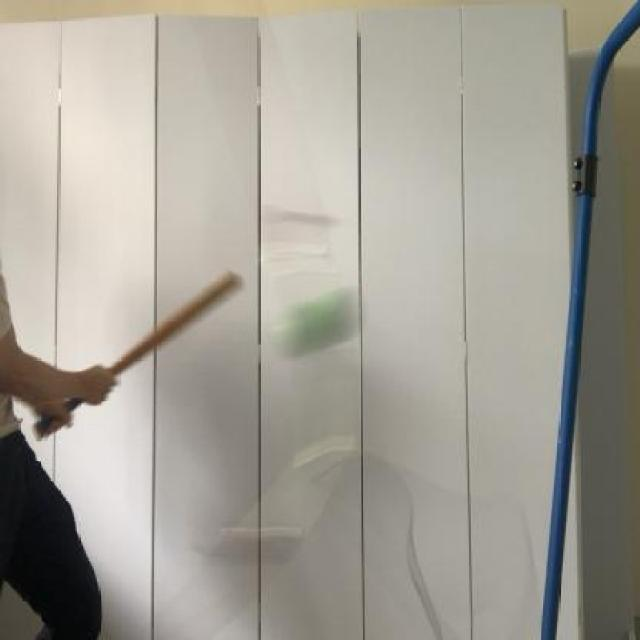baseball: (268, 267, 367, 361)
